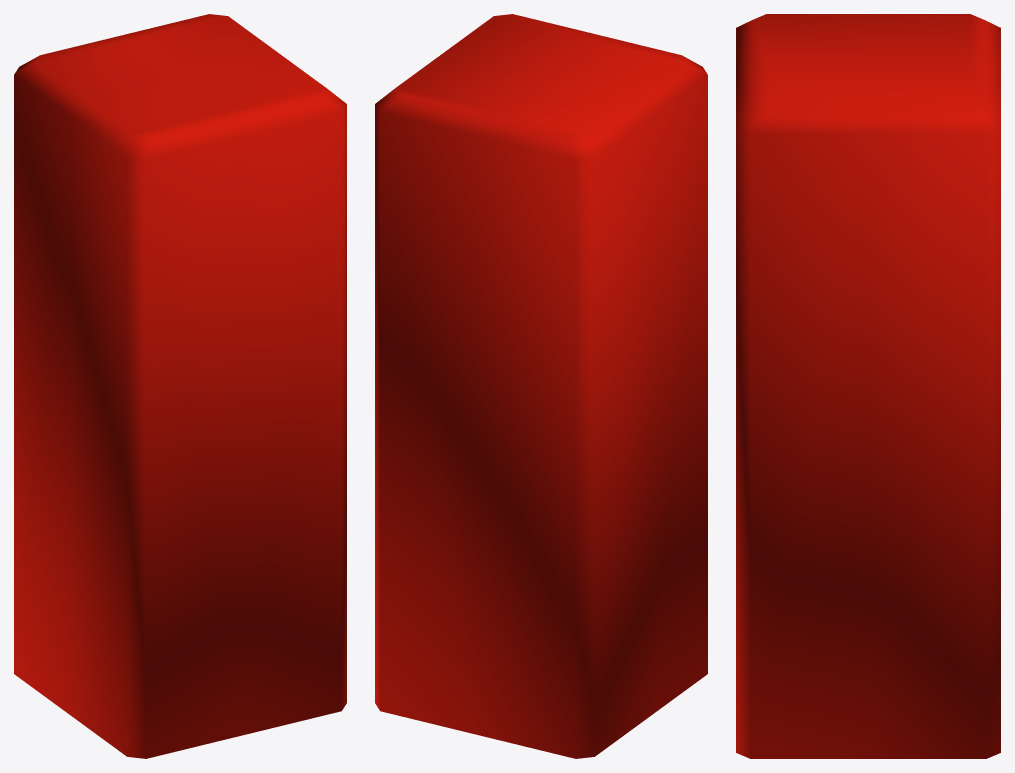
The model's file is IndBuilding1_Deco_IntColumn_Top.fbx.
The picture shows the model from 3 angles, left to right: view 1: azimuth 30°, elevation 25°; view 2: azimuth 150°, elevation 25°; view 3: azimuth 270°, elevation 25°; orthographic projection. The views are drawn at different scales.
Parts seen in each view (by area): view 1: IndBuilding1_Deco_IntColumn_Top; view 2: IndBuilding1_Deco_IntColumn_Top; view 3: IndBuilding1_Deco_IntColumn_Top.
Boxes of the visible parts, <box> form: IndBuilding1_Deco_IntColumn_Top: <box>14,14,346,758</box>; IndBuilding1_Deco_IntColumn_Top: <box>375,14,707,758</box>; IndBuilding1_Deco_IntColumn_Top: <box>736,14,1000,758</box>.
Bounding box in the file's own units: 0.6 × 1.6 × 0.6.
